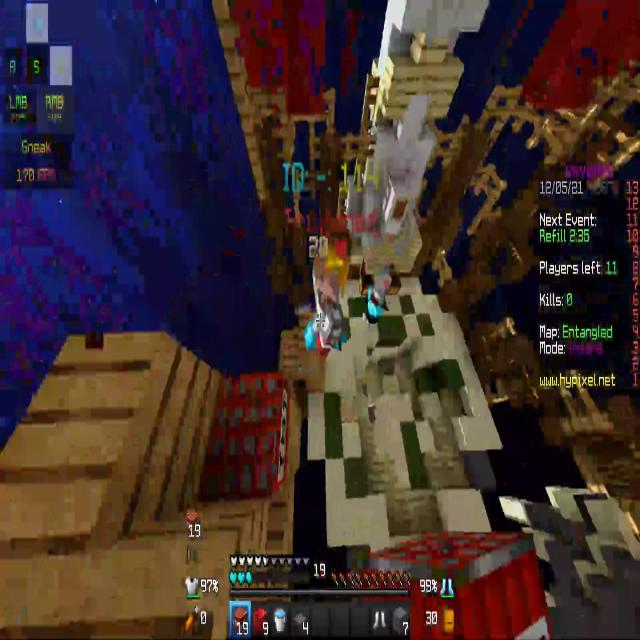Player: (302, 234, 354, 359), (361, 259, 396, 332)
